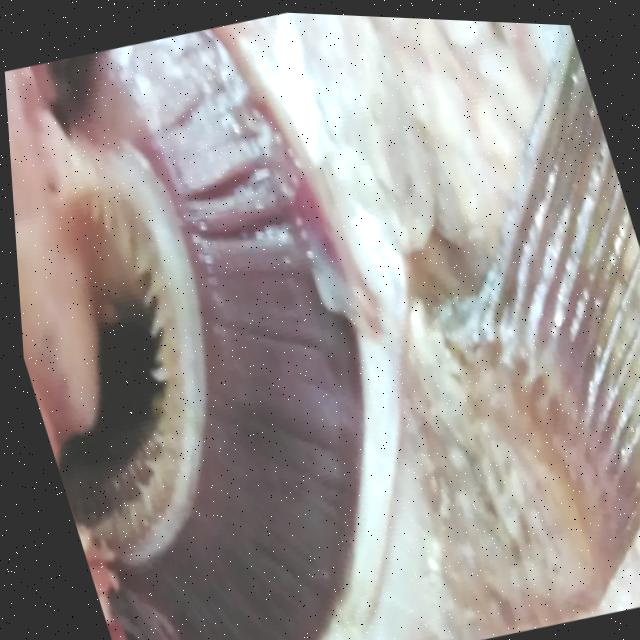Non-Fresh: (0, 0, 477, 640)
